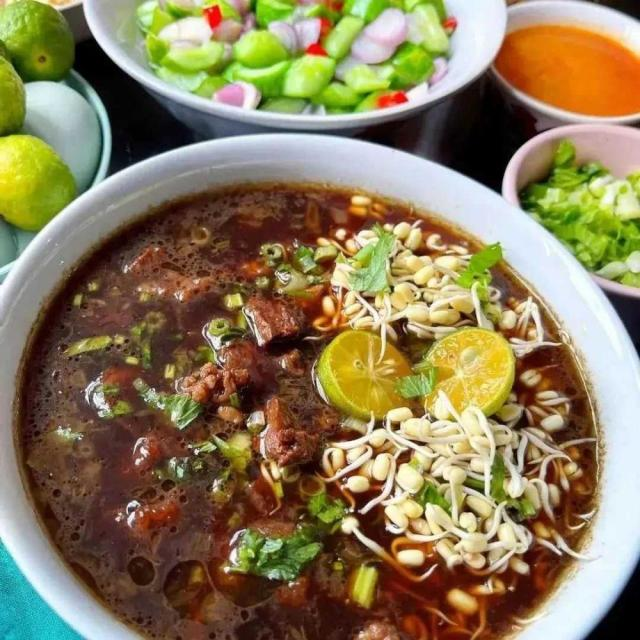Rawon: (35, 199, 569, 612)
